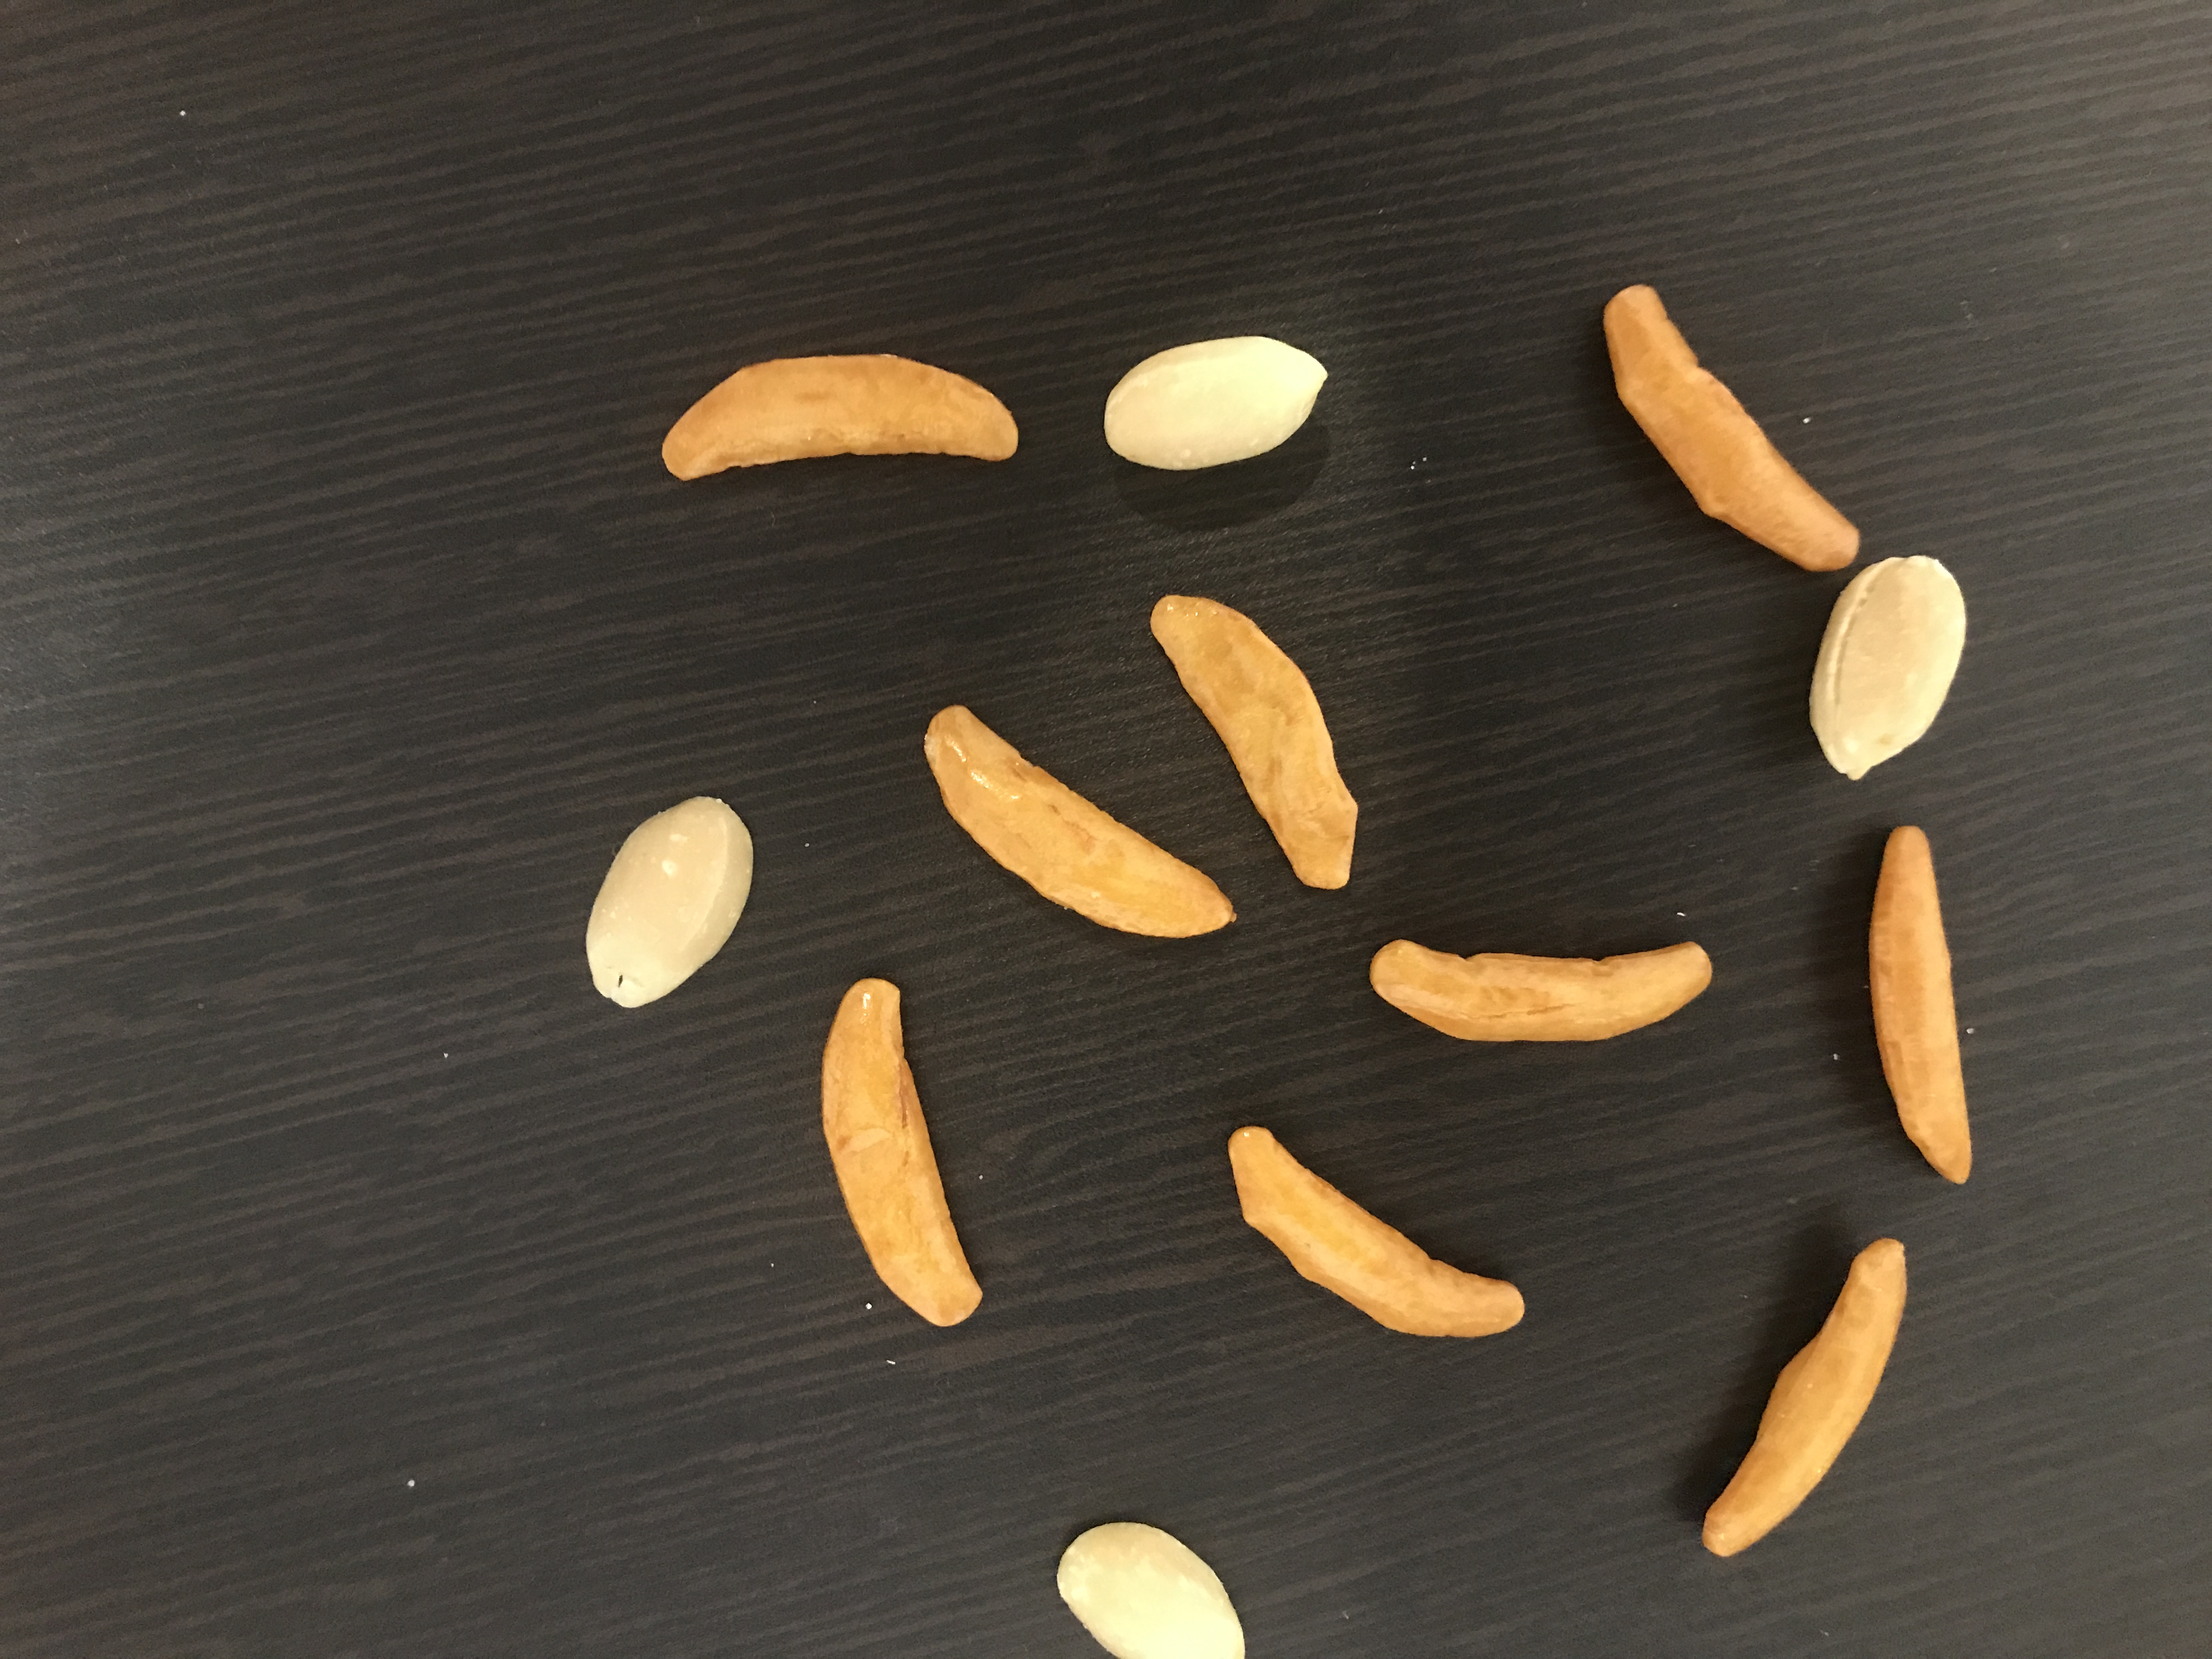peanut: (1799, 547, 1973, 789), (580, 788, 765, 1016), (1096, 331, 1332, 476), (1049, 1516, 1263, 1659)
